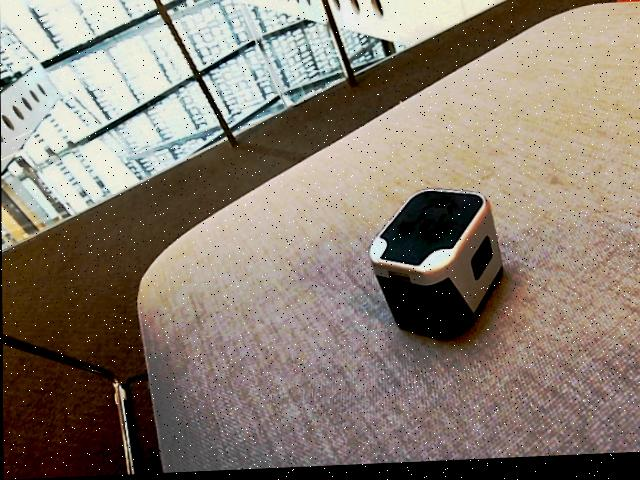adapter: (368, 189, 504, 347)
